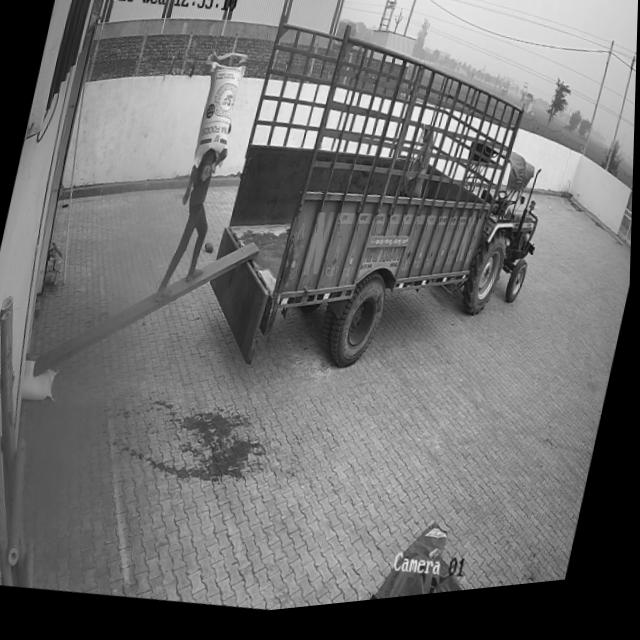sack: (191, 65, 247, 177), (18, 356, 62, 407)
